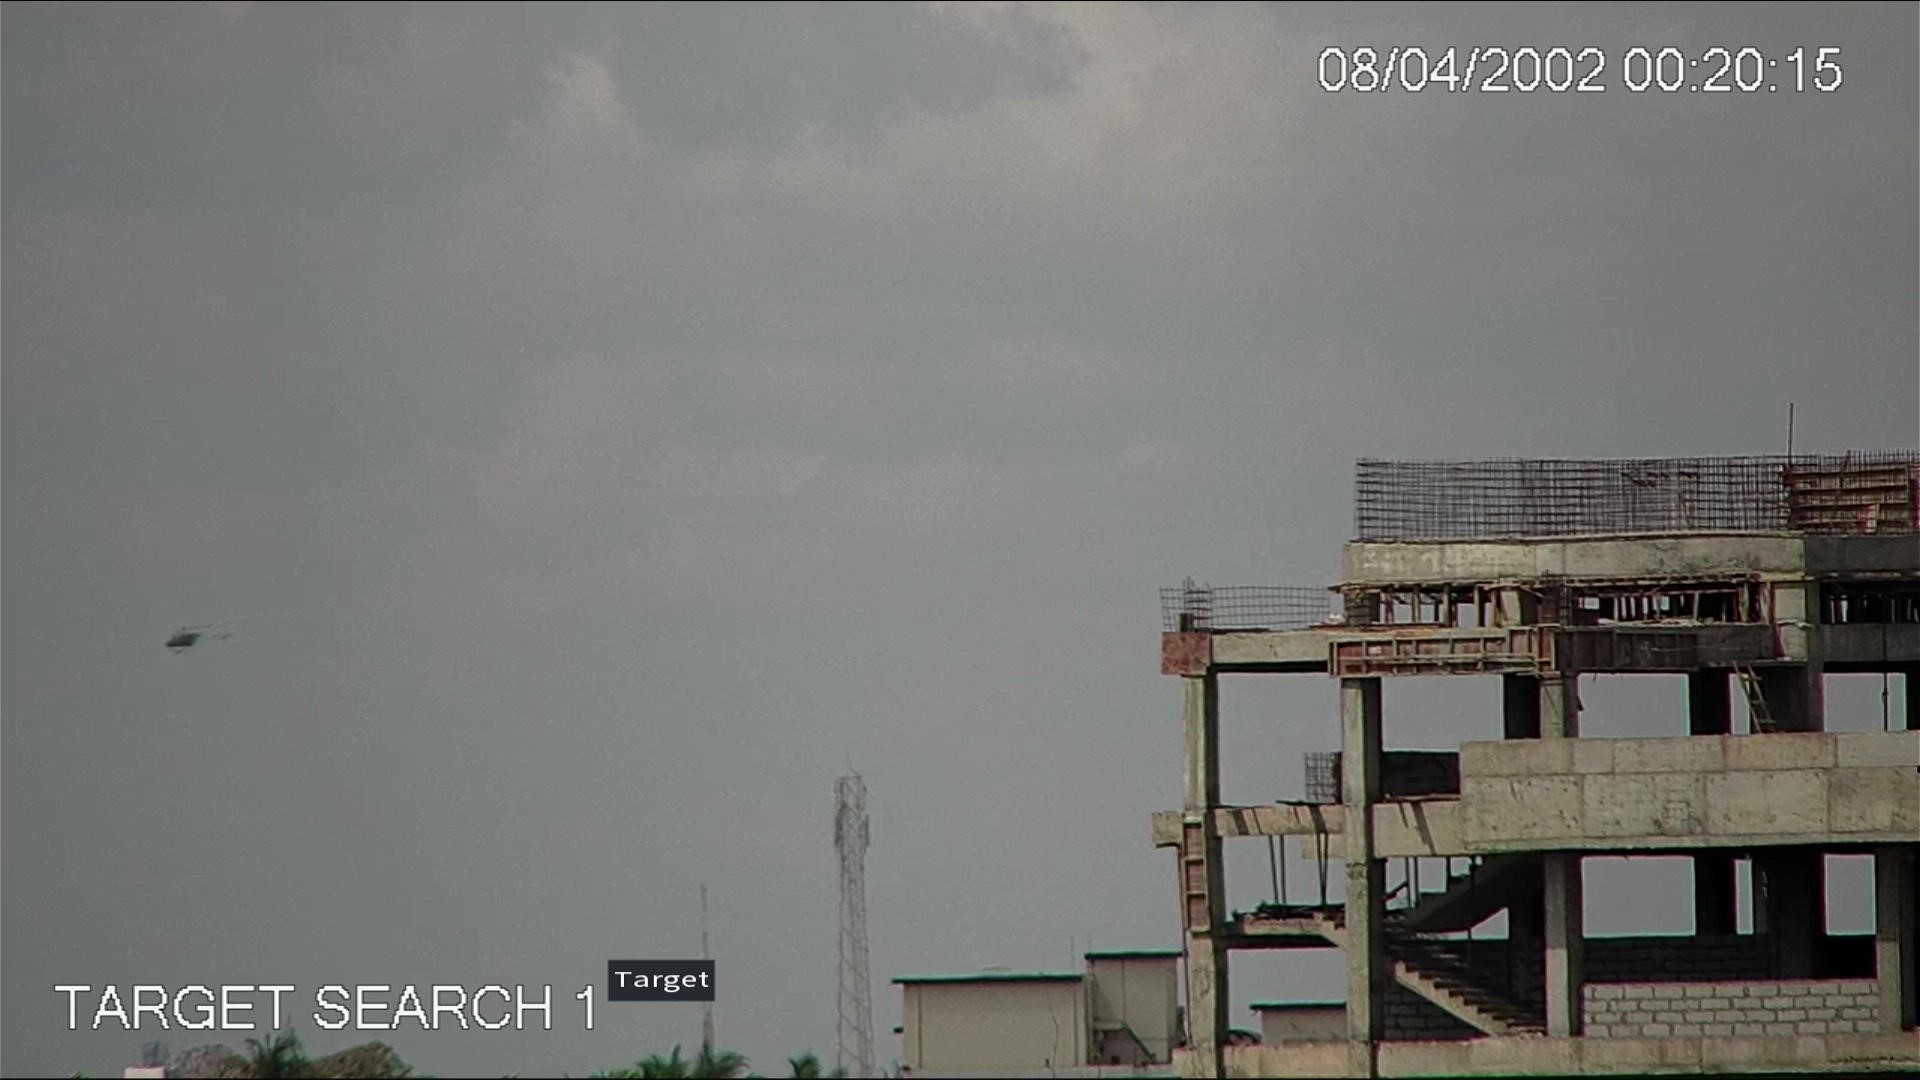SU_30: (158, 617, 236, 659)
